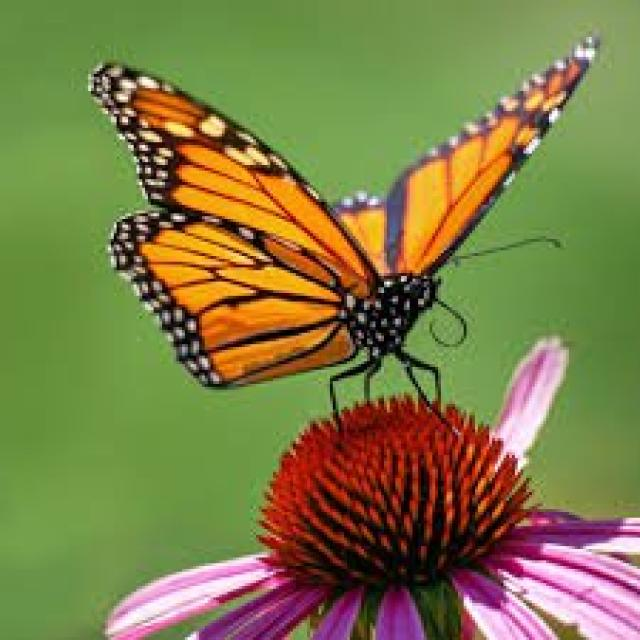butterfly: (114, 56, 546, 375)
